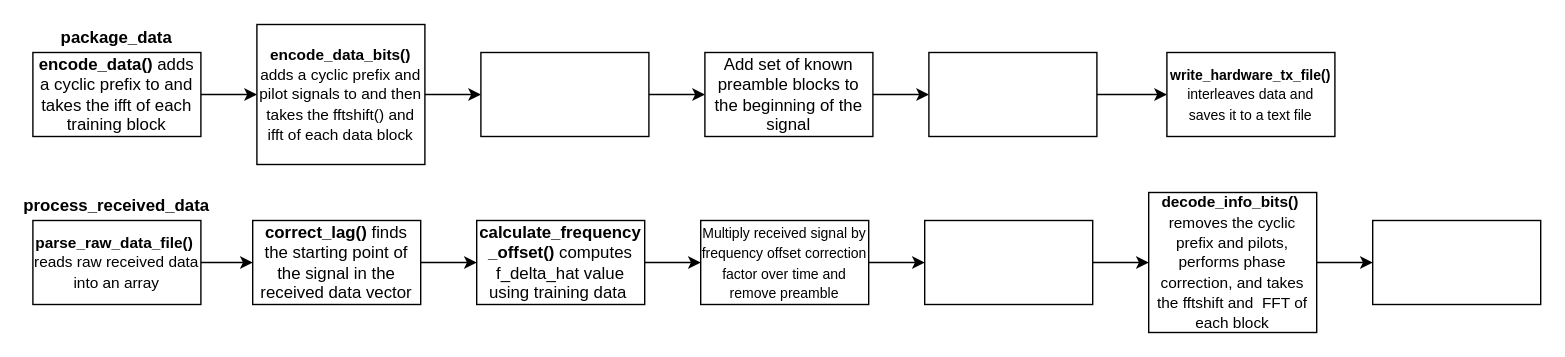
This 1565x357 diagram has some shape labels left out. The centre of each missing label's shape, as x and y in pixels:
"Add preamble to beginning of data vector, which is now ready to transmit" goes at point (1012, 93).
"Append data to send across the channel to the training data" goes at point (564, 93).
"Divide out channel matrix to yield corrected, decoded received data" goes at point (1456, 261).
"estimate_channel() computes the channel matrix the signal is scaled by" goes at point (1008, 261).
